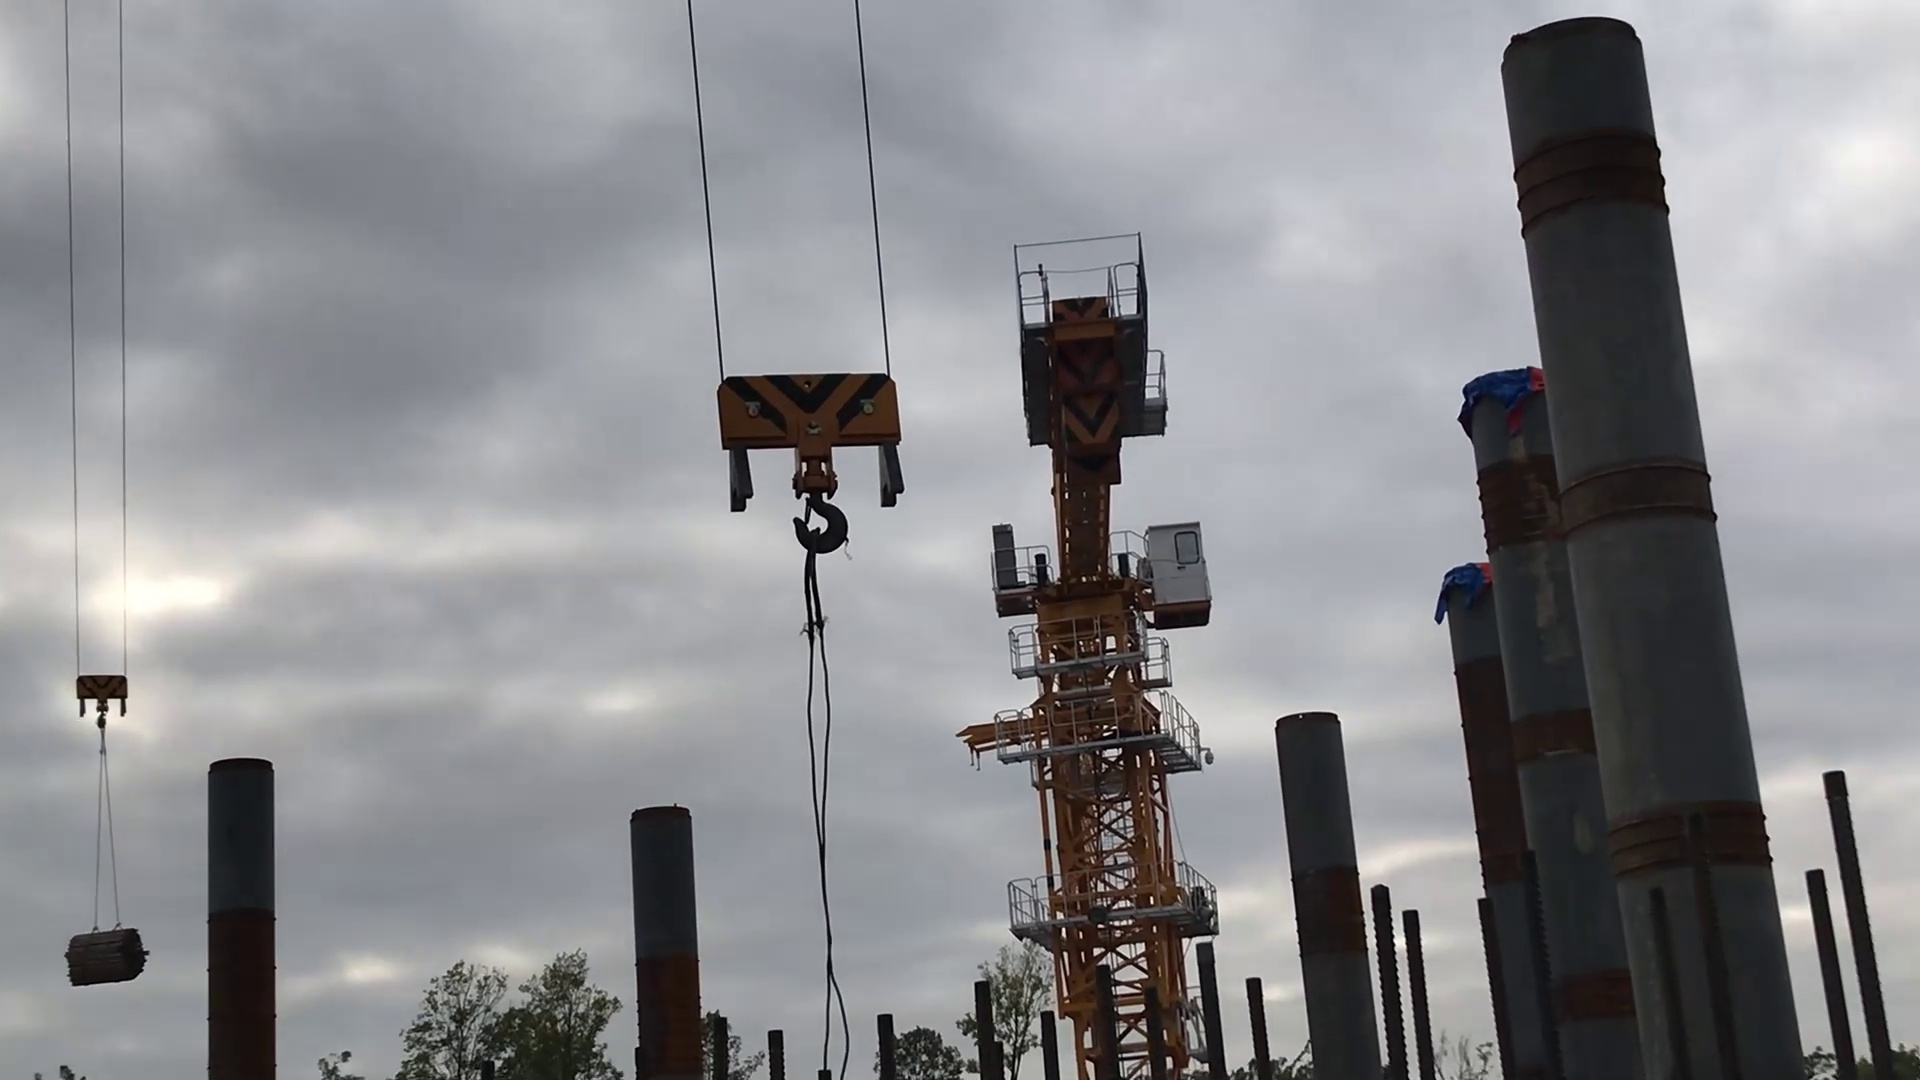hook: (705, 355, 905, 564), (59, 667, 136, 724)
